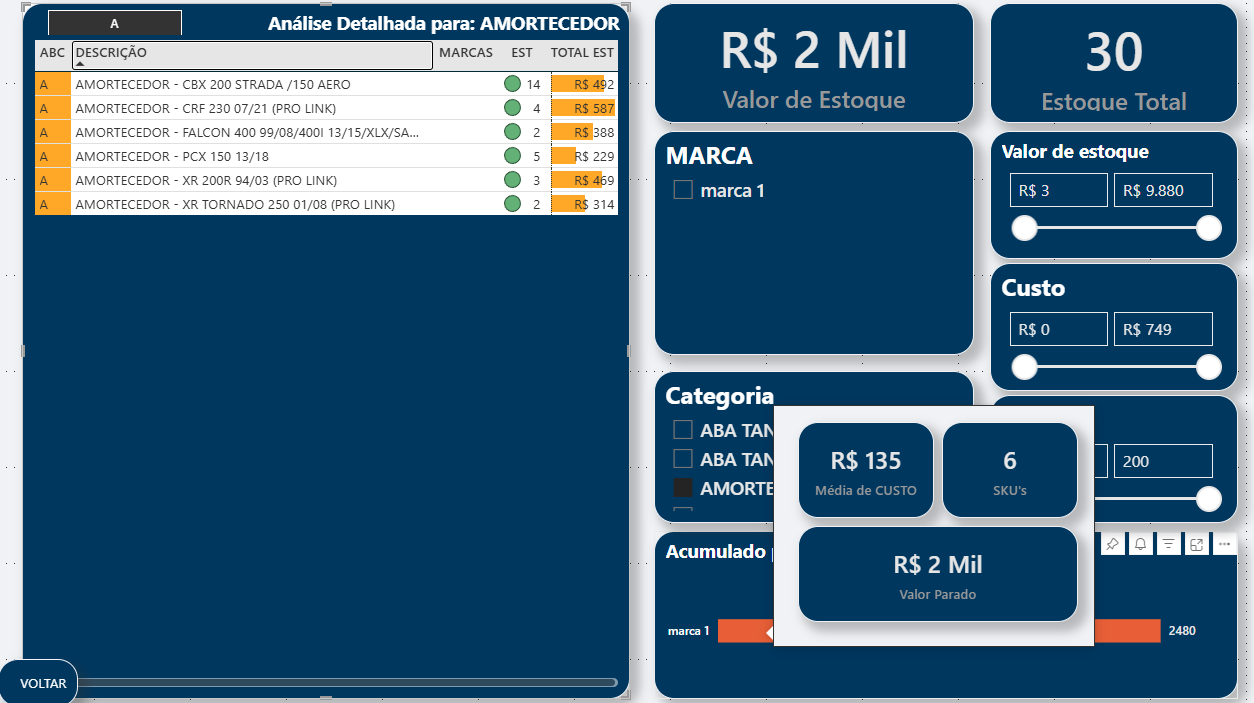

Layout of this report page (visuals, bound fields, positions):
{"tool":"powerbi","page":{"name":"Análise Detalhada","canvas":[1280,720],"ordinal":1},"visuals":[{"type":"tableEx","fields":{"Values":["Dim_produto.// Coluna Calculada na Dim_ProdutoClassificação ABC","Dim_produto.COD","Dim_produto.DESCRIÇÃO","Fato_Estoque.MARCAS","Dim_produto.EST","Dim_produto.VALOREST","Dim_produto.CUSTO","Dim_produto.VENDA TAB 1","Dim_produto.MARGEM TAB 1"]},"box":[24,16,608,696],"z":0,"group":"g1"},{"type":"card","title":"Estoque Parado","fields":{"Values":["Sum(Dim_produto.VALOREST)"]},"box":[656,16,320,120],"z":0},{"type":"card","title":"Estoque Parado","fields":{"Values":["Sum(Dim_produto.EST)"]},"box":[992,16,248,120],"z":1000},{"type":"slicer","title":"MARCA","fields":{"Values":["Dim_produto.MARCA"]},"box":[656,144,320,224],"z":2000},{"type":"barChart","title":"Acumulado por Marca","fields":{"Y":["Sum(Dim_produto.VALOREST)"],"Category":["Dim_produto.MARCA"]},"box":[656,544,584,168],"z":3000},{"type":"slicer","title":"Valor de estoque","fields":{"Values":["Dim_produto.VALOREST"]},"box":[992,144,248,128],"z":4000},{"type":"slicer","title":"Custo","fields":{"Values":["Dim_produto.CUSTO"]},"box":[992,276,248,128],"z":5000},{"type":"slicer","title":"Estoque","fields":{"Values":["Dim_produto.EST"]},"box":[992,408,248,128],"z":6000},{"type":"slicer","title":"Categoria","fields":{"Values":["Dim_produto.DESCRIÇÃO REDUZIDA"]},"box":[656,384,320,152],"z":7000},{"type":"slicer","title":"Categoria","fields":{"Values":["Dim_produto.CURVA ABC"]},"box":[24,16,184,32],"z":8503,"group":"g1"},{"type":"group","id":"g1","title":"Grupo 1","box":[24,16,608,696],"z":9000},{"type":"actionButton","title":"VOLTAR","box":[0,672,80,48],"z":9500}]}

Visuals, with their boxes in screenshot pixels (x1, y1, x2, y2), scaled from the page's 1280x720 canvas onto the 1254x703 screenshot:
tableEx - Dim_produto.// Coluna Calculada na Dim_ProdutoClassificação ABC x Dim_produto.COD: 24/16/619/695
"Estoque Parado" card: 643/16/956/133
"Estoque Parado" card: 972/16/1215/133
"MARCA" slicer: 643/141/956/359
"Acumulado por Marca" barChart: 643/531/1215/695
"Valor de estoque" slicer: 972/141/1215/266
"Custo" slicer: 972/269/1215/394
"Estoque" slicer: 972/398/1215/523
"Categoria" slicer: 643/375/956/523
"Categoria" slicer: 24/16/204/47
"Grupo 1" group: 24/16/619/695
"VOLTAR" actionButton: 0/656/78/702
